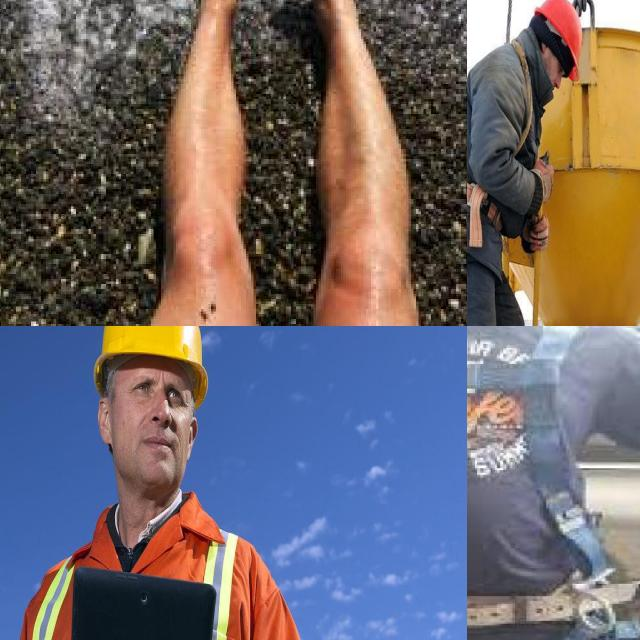Harness: (467, 326, 601, 640)
No_Ear-Protection: (96, 398, 113, 448), (187, 416, 198, 460)
No_Glasses: (122, 374, 187, 412)
face_nomask: (114, 402, 191, 486)
hand_glove: (530, 150, 564, 207), (522, 208, 552, 258)
head_helmet: (94, 326, 208, 409), (537, 0, 588, 83)
person: (467, 0, 582, 326)
